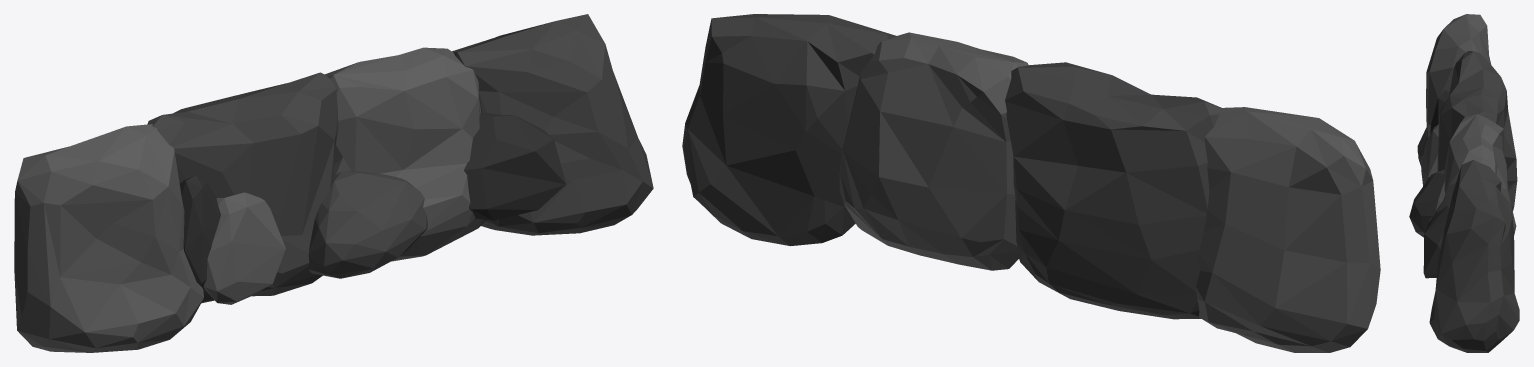
File: bigger-rocks.fbx
3 views of the same model, side by side, from view 1: azimuth 30°, elevation 25°; view 2: azimuth 150°, elevation 25°; view 3: azimuth 270°, elevation 25° (orthographic). The views are drawn at different scales.
Visible parts, largest first — view 1: rock_xxl_01, rock_xxl_07, rock_xxl_02, rock_xxl_03, rock_xxl_05, rock_xxl_08, rock_xxl_06, rock_xxl_09; view 2: rock_xxl_02, rock_xxl_01, rock_xxl_07, rock_xxl_03; view 3: rock_xxl_07, rock_xxl_02, rock_xxl_01, rock_xxl_03, rock_xxl_05, rock_xxl_08, rock_xxl_06, rock_xxl_09.
Part boxes in pixels (bbox=[...]): rock_xxl_01: bbox=[14, 124, 203, 352]; rock_xxl_07: bbox=[452, 14, 653, 235]; rock_xxl_02: bbox=[147, 72, 338, 303]; rock_xxl_03: bbox=[325, 47, 486, 261]; rock_xxl_05: bbox=[308, 171, 427, 278]; rock_xxl_08: bbox=[464, 112, 566, 220]; rock_xxl_06: bbox=[203, 192, 285, 304]; rock_xxl_09: bbox=[179, 175, 220, 289]; rock_xxl_02: bbox=[1005, 62, 1222, 319]; rock_xxl_01: bbox=[1196, 107, 1380, 352]; rock_xxl_07: bbox=[682, 14, 895, 246]; rock_xxl_03: bbox=[839, 32, 1028, 270]; rock_xxl_07: bbox=[1429, 160, 1519, 352]; rock_xxl_02: bbox=[1437, 51, 1517, 211]; rock_xxl_01: bbox=[1417, 14, 1491, 166]; rock_xxl_03: bbox=[1429, 114, 1516, 235]; rock_xxl_05: bbox=[1409, 169, 1444, 237]; rock_xxl_08: bbox=[1423, 205, 1449, 278]; rock_xxl_06: bbox=[1421, 124, 1438, 185]; rock_xxl_09: bbox=[1430, 89, 1449, 134].
Size of the model in its own units: 4650 by 1544 by 998.
Materials: 1 (1 with a texture image).
